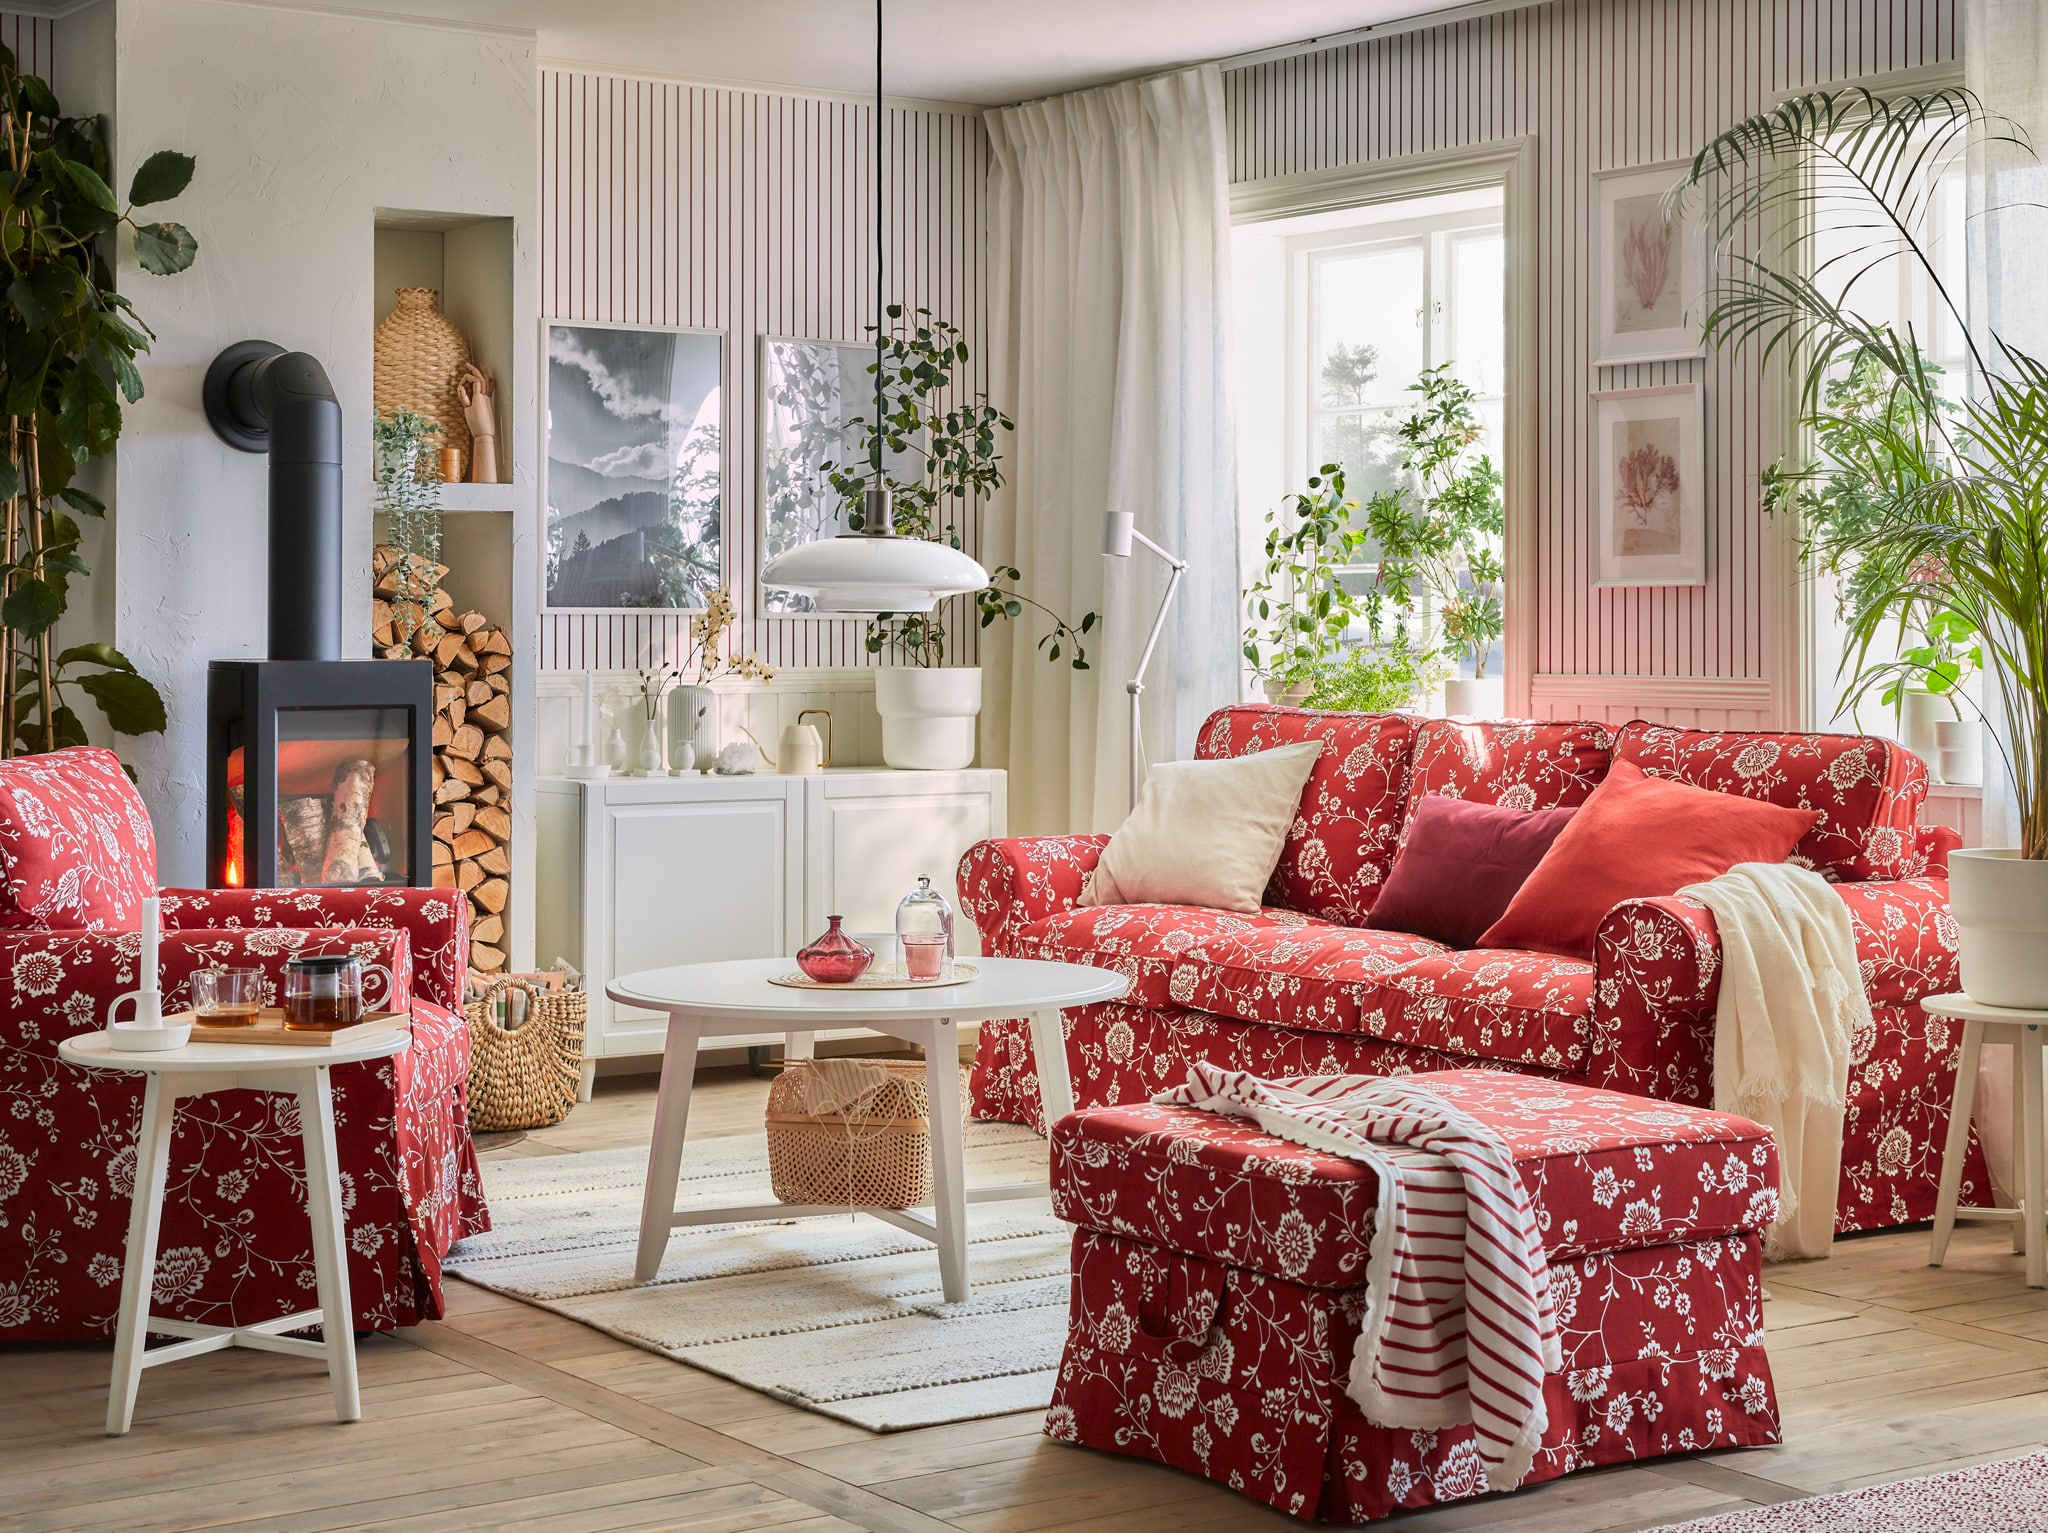bantal: (1546, 763, 1778, 928), (1113, 742, 1277, 915), (1378, 791, 1531, 945)
kursi: (1030, 1090, 1806, 1494), (2, 728, 501, 1337)
lukisan: (539, 308, 733, 626), (1583, 150, 1728, 370), (1578, 375, 1716, 597)
meja: (625, 952, 1113, 1324), (66, 984, 420, 1430)
sova: (964, 686, 1979, 1242)
tanaman: (1716, 81, 2048, 673), (2, 81, 187, 729), (1235, 370, 1501, 720), (823, 287, 1008, 771)
